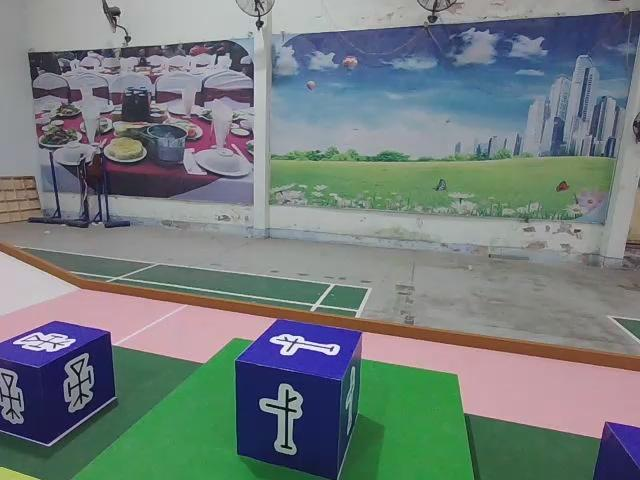R2 Real Blue: (235, 318, 362, 480), (2, 322, 118, 449)
